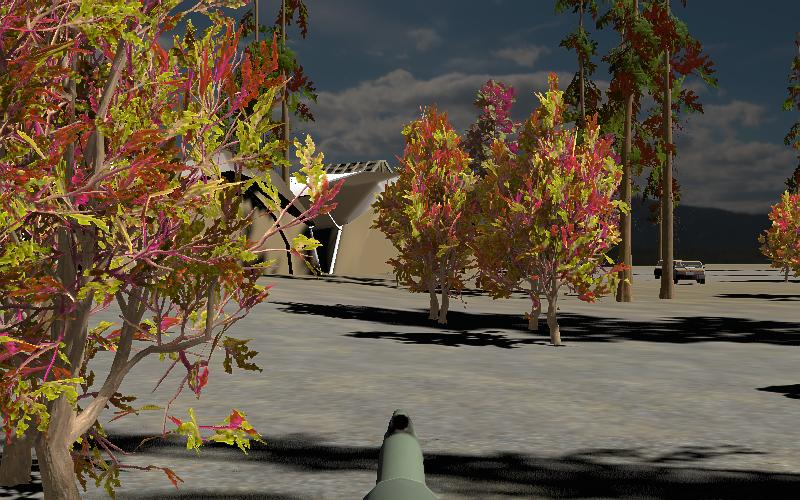car: (652, 257, 708, 286)
